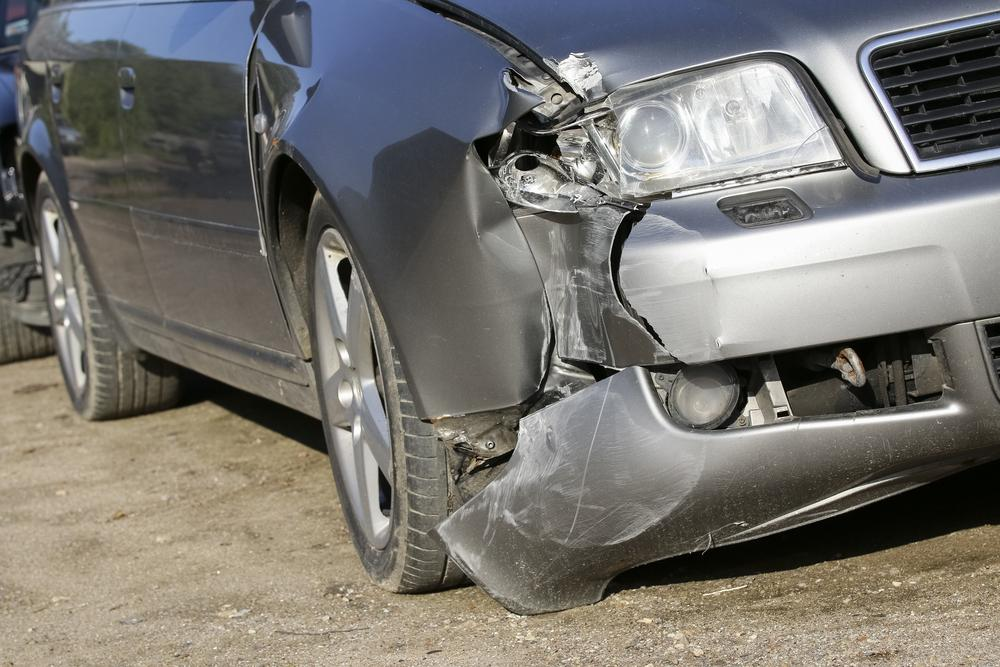crack: (609, 202, 686, 364)
dent: (470, 144, 545, 392), (484, 78, 521, 133)
lamp broken: (529, 53, 850, 204)
scratch: (438, 373, 709, 578), (621, 212, 725, 364), (544, 206, 639, 368), (539, 49, 606, 98), (539, 286, 551, 387)
